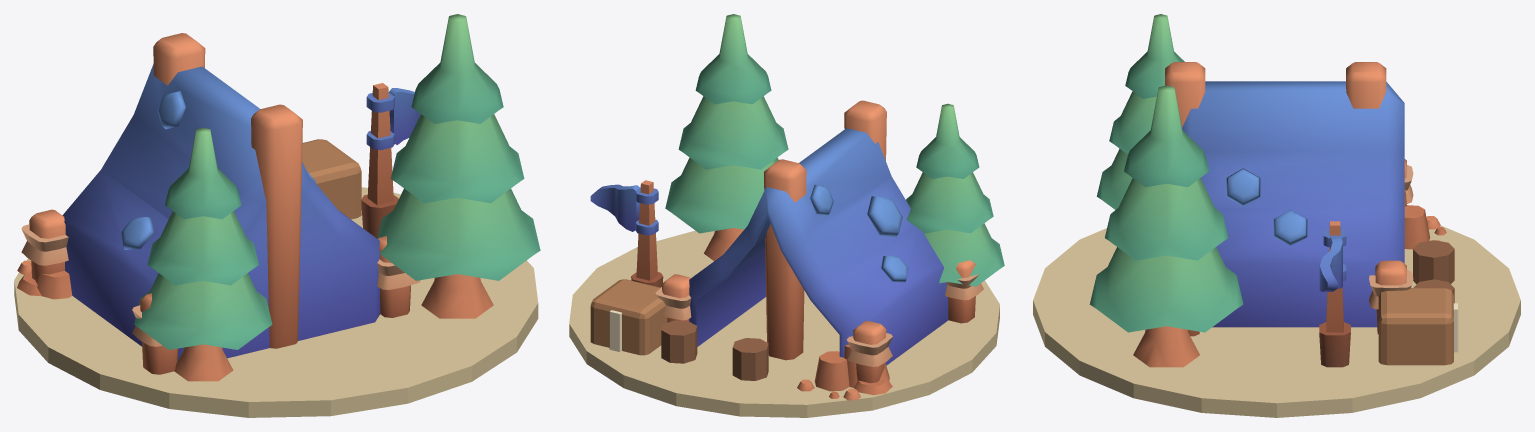
The model's file is camp.glb.
3 views of the same model, side by side, from view 1: azimuth 30°, elevation 25°; view 2: azimuth 150°, elevation 25°; view 3: azimuth 270°, elevation 25° (orthographic). The views are drawn at different scales.
Visible parts, largest first — view 1: tent, tree (×2), camp, flag, stones; view 2: tent, camp, tree (×2), flag, stones; view 3: tent, camp, tree (×2), flag, stones.
Part boxes in pixels (x1,y1,x2,y2): tent: [21, 33, 420, 374]; tree (×2): [134, 14, 540, 381]; camp: [14, 139, 538, 417]; flag: [361, 83, 420, 238]; stones: [17, 260, 72, 299]; tent: [655, 100, 983, 383]; camp: [569, 230, 999, 417]; tree (×2): [665, 14, 1004, 286]; flag: [590, 180, 663, 287]; stones: [797, 344, 892, 400]; tent: [1165, 62, 1413, 336]; camp: [1033, 225, 1520, 417]; tree (×2): [1089, 14, 1243, 367]; flag: [1319, 221, 1350, 367]; stones: [1404, 189, 1446, 249].
Bounding box in the file's own units: 4.2 × 2.67 × 4.2.
9 materials, 5 textured.
